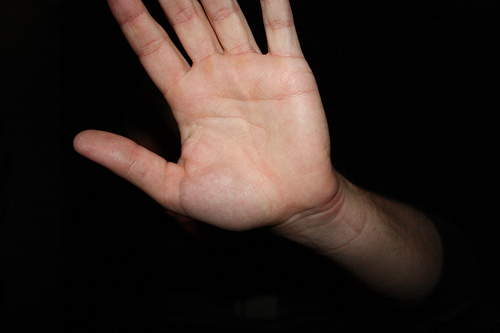palm: (154, 56, 335, 222)
